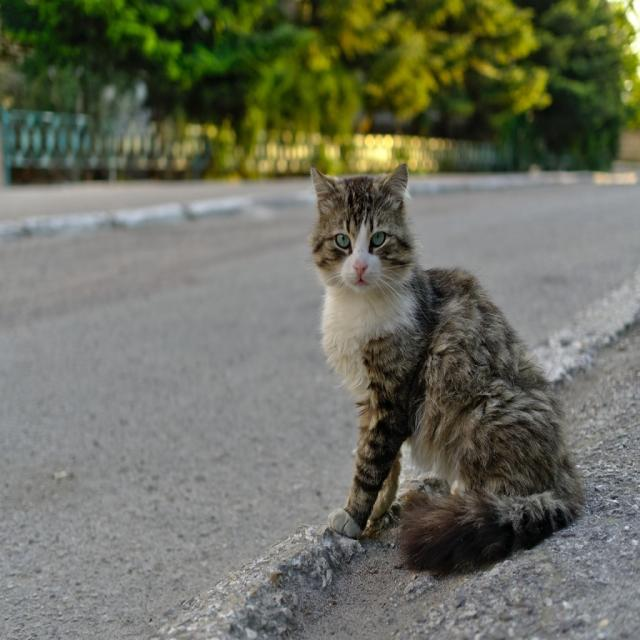Cat: (312, 162, 586, 574)
